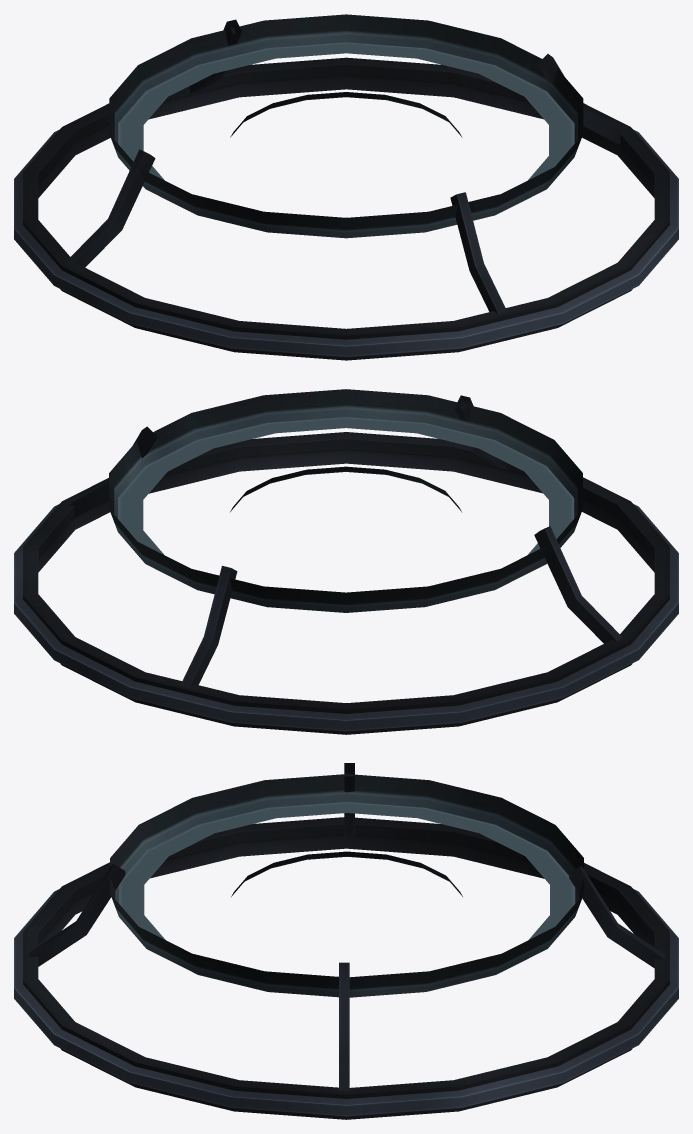
File: ts_cjdil001.FBX
3 renders of one model, top to bottom at view 1: azimuth 30°, elevation 25°; view 2: azimuth 150°, elevation 25°; view 3: azimuth 270°, elevation 25°, orthographic.
Parts seen in each view (by area): view 1: ts_cjdil001; view 2: ts_cjdil001; view 3: ts_cjdil001.
Boxes of the visible parts, bbox=[...] form: ts_cjdil001: bbox=[14, 14, 678, 360]; ts_cjdil001: bbox=[14, 389, 678, 734]; ts_cjdil001: bbox=[14, 763, 678, 1119].
Size of the model in its own units: 7.93 by 1.54 by 7.81.
